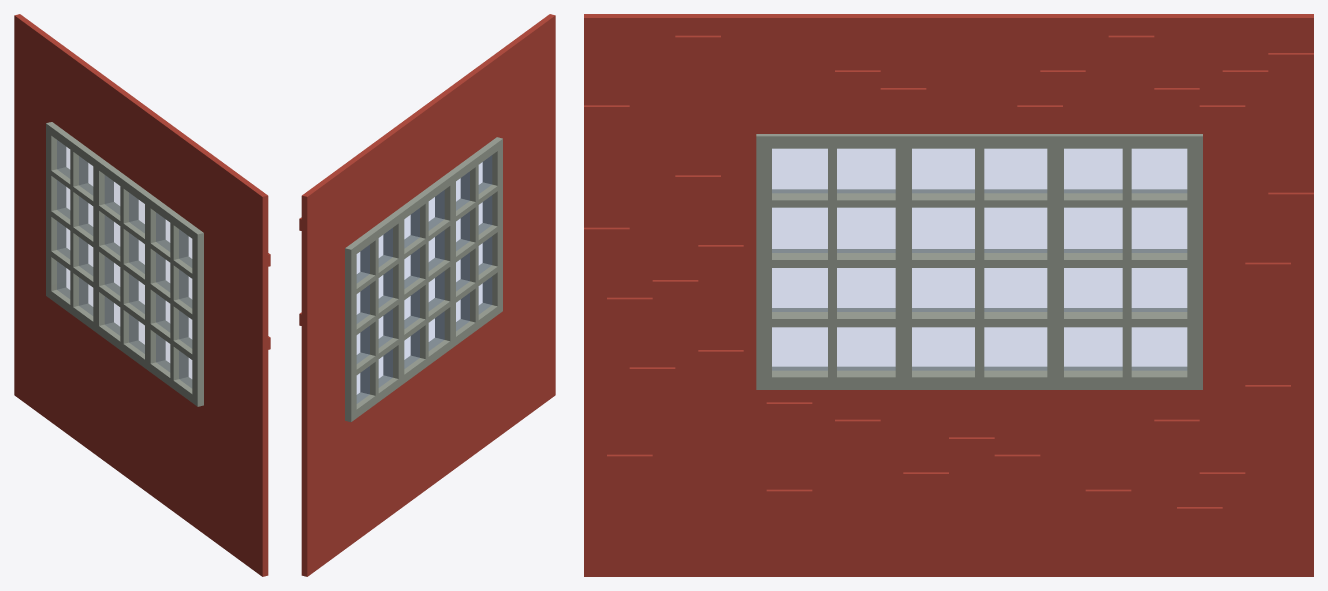
The model's file is aknaga sein.fbx.
The picture shows the model from 3 angles, left to right: view 1: azimuth 30°, elevation 25°; view 2: azimuth 150°, elevation 25°; view 3: azimuth 270°, elevation 25°; orthographic projection. The views are drawn at different scales.
Parts seen in each view (by area): view 1: paremsein, aken, klaas; view 2: paremsein, aken, klaas; view 3: paremsein, klaas, aken.
Part boxes in pixels (x1,y1,x2,y2): paremsein: (14, 14, 270, 576); aken: (46, 122, 203, 406); klaas: (57, 140, 191, 387); paremsein: (299, 14, 555, 576); aken: (345, 137, 502, 421); klaas: (357, 156, 491, 403); paremsein: (584, 14, 1313, 576); klaas: (772, 149, 1186, 370); aken: (756, 134, 1202, 389).
Size of the model in its own units: 35.1 by 844 by 999.
